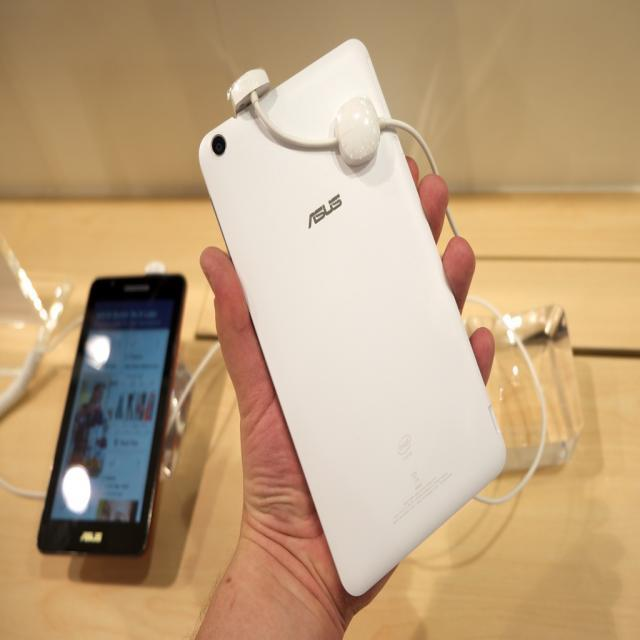Phone: (194, 35, 511, 604), (36, 272, 190, 556)
